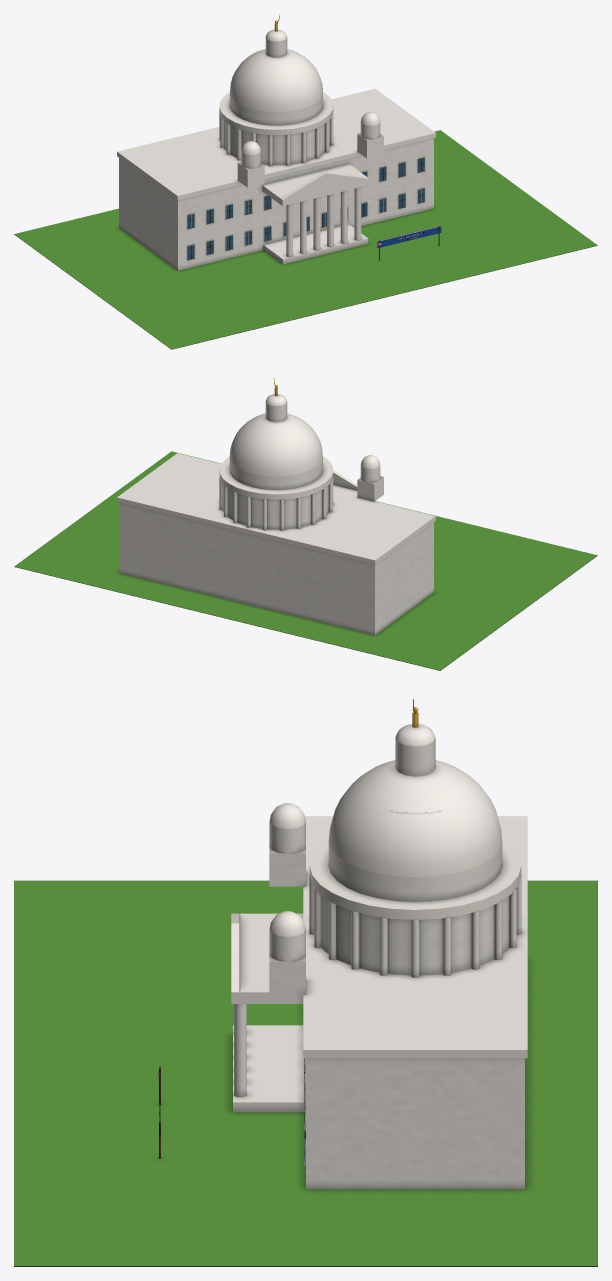
File: capitolio_ri.glb
3 views of the same model, one above another, from view 1: azimuth 30°, elevation 25°; view 2: azimuth 150°, elevation 25°; view 3: azimuth 270°, elevation 25° (orthographic). The views are drawn at different scales.
Visible parts, largest first — view 1: capitolio_ri; view 2: capitolio_ri; view 3: capitolio_ri.
Boxes of the visible parts, x1=… form: capitolio_ri: x1=14, y1=14, x2=597, y2=349; capitolio_ri: x1=14, y1=378, x2=597, y2=670; capitolio_ri: x1=14, y1=699, x2=597, y2=1266.
Bounding box in the file's own units: 100 × 45.65 × 64.
1 material, 1 textured.
